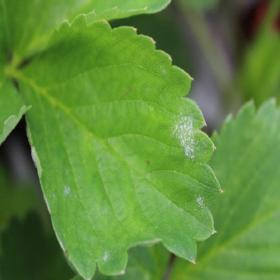Powdery Mildew Leaf: (16, 14, 224, 279)
